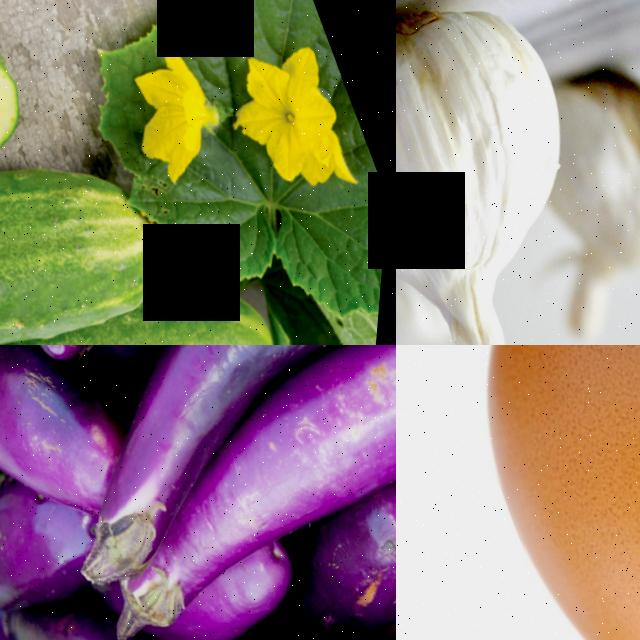cucumber: (0, 104, 192, 345), (0, 221, 310, 345)
egg_: (396, 345, 640, 640)
eggplant: (28, 366, 253, 594), (219, 345, 396, 547), (0, 345, 143, 563)
garlic: (396, 0, 639, 345)
